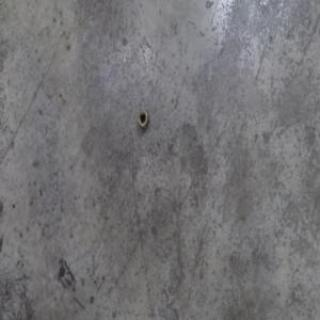Nuttrack_idkeyframe: (136, 108, 149, 130)
